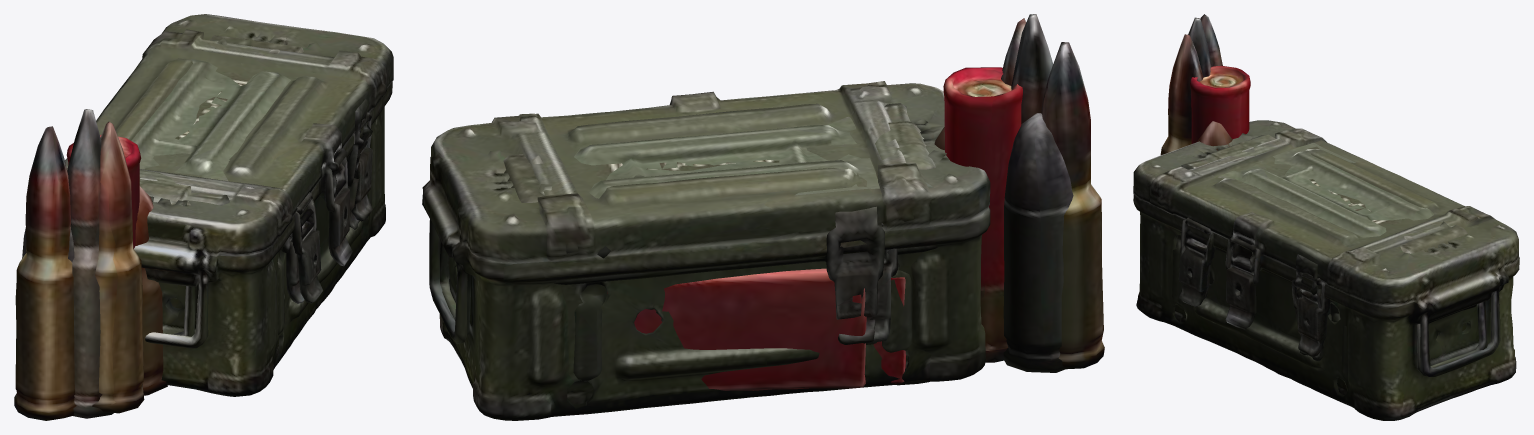
Rendered from ul_ammo.glb.
The picture shows the model from 3 angles, left to right: view 1: azimuth 30°, elevation 25°; view 2: azimuth 150°, elevation 25°; view 3: azimuth 270°, elevation 25°; orthographic projection. The views are drawn at different scales.
Parts seen in each view (by area): view 1: item_4, item_3, item_5, item_6, item_1, item_7; view 2: item_4, item_1, item_6, item_3, item_5, item_7, item_2; view 3: item_4, item_3, item_5, item_7, item_6, item_1.
Part boxes in pixels (x1,y1,x2,y2): item_4: (14,14,393,420); item_3: (92,35,303,413); item_5: (67,99,372,418); item_6: (22,112,372,336); item_1: (135,186,167,395); item_7: (66,134,141,248); item_4: (422,42,1104,420); item_1: (607,127,944,390); item_6: (440,113,1073,372); item_3: (503,18,1026,344); item_5: (554,14,1053,404); item_7: (943,67,1022,362); item_2: (873,277,906,383); item_4: (1133,14,1519,420); item_3: (1160,34,1467,253); item_5: (1172,17,1346,395); item_7: (1190,65,1250,143); item_6: (1204,253,1487,390); item_1: (1197,121,1232,150).
Bounding box in the file's own units: 0.2707 × 0.1584 × 0.23.
1 material, 1 textured.
